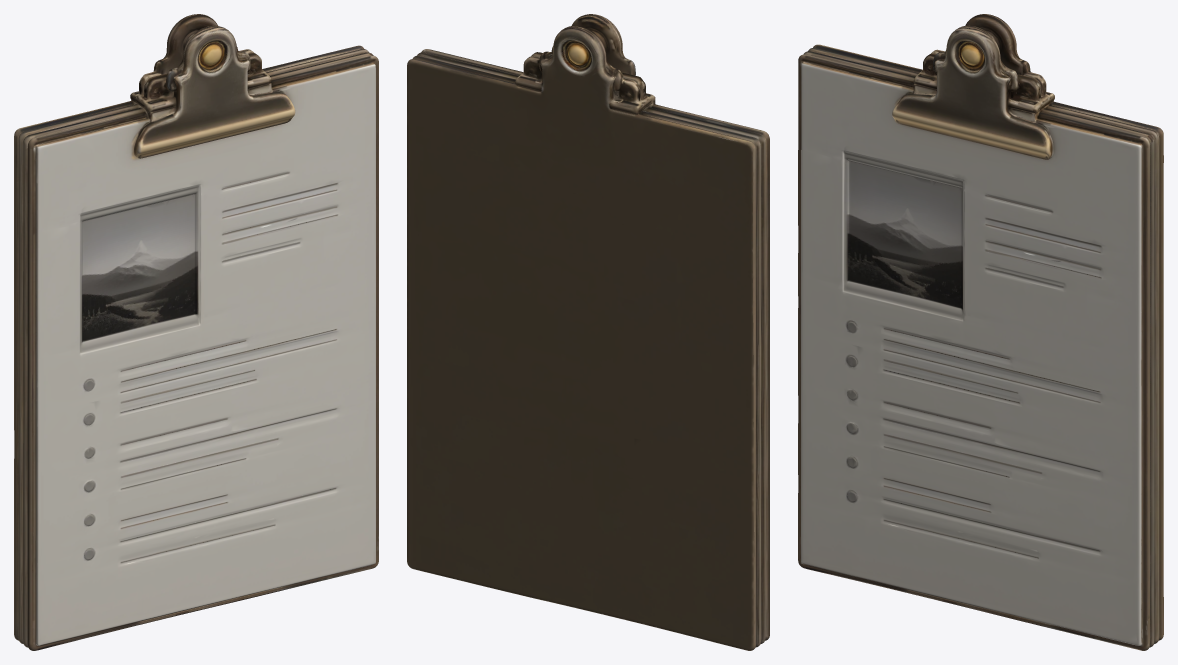
The model's file is resume.glb.
3 renders of one model, left to right at view 1: azimuth 30°, elevation 25°; view 2: azimuth 150°, elevation 25°; view 3: azimuth 330°, elevation 25°, orthographic.
Visible parts, largest first — view 1: node_0; view 2: node_0; view 3: node_0.
Part boxes in pixels (x1,y1,x2,y2): node_0: (14, 14, 378, 650); node_0: (407, 14, 769, 650); node_0: (798, 14, 1163, 650).
Bounding box in the file's own units: 0.6417 × 1.02 × 0.0846.
Materials: 1 (1 with a texture image).
